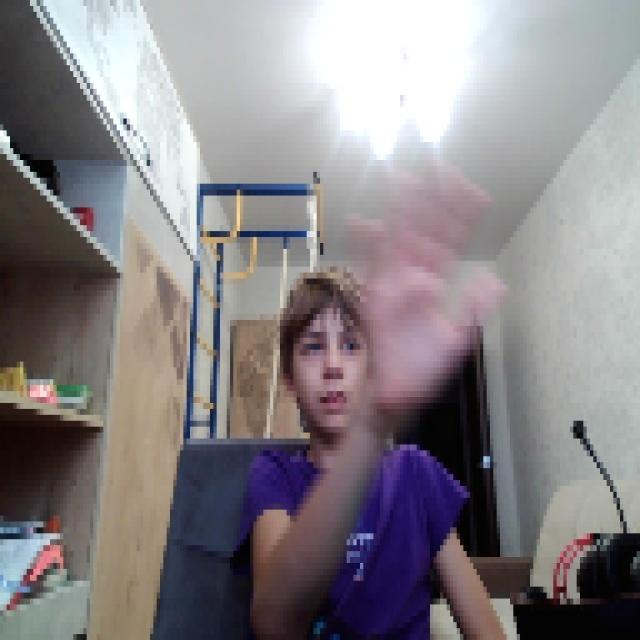hand: (350, 160, 503, 403)
